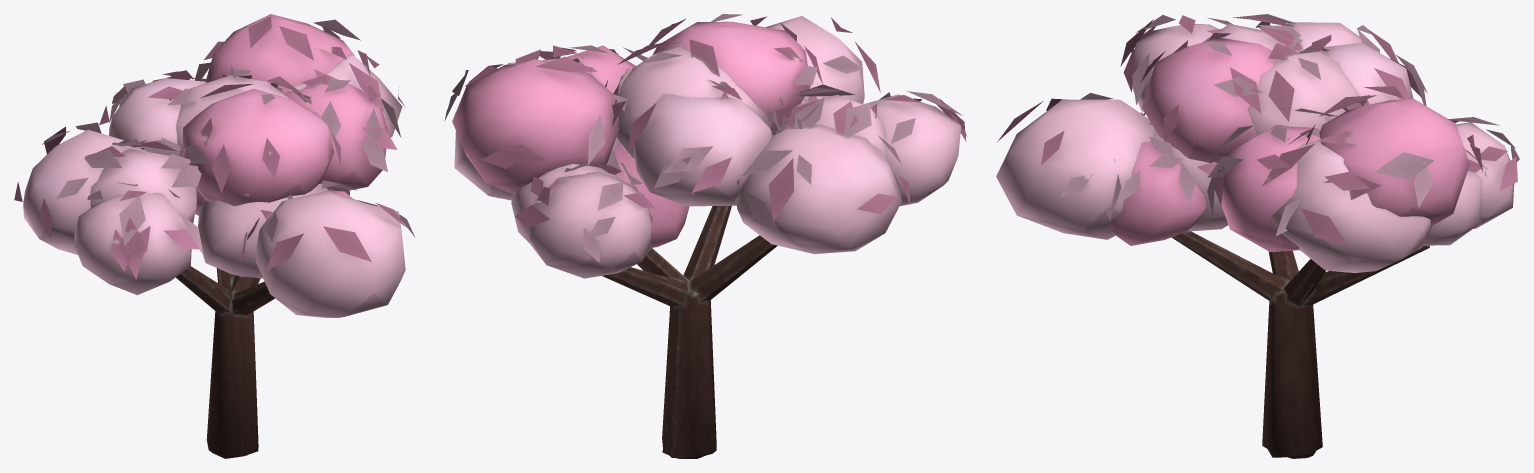
The model's file is cb_cherry_tree_b.glb.
3 renders of one model, left to right at view 1: azimuth 30°, elevation 25°; view 2: azimuth 150°, elevation 25°; view 3: azimuth 270°, elevation 25°, orthographic. The views are drawn at different scales.
Parts seen in each view (by area): view 1: cb_cherry_tree_b; view 2: cb_cherry_tree_b; view 3: cb_cherry_tree_b.
Part boxes in pixels (x1=…): cb_cherry_tree_b: x1=14, y1=14, x2=415, y2=458; cb_cherry_tree_b: x1=444, y1=14, x2=966, y2=458; cb_cherry_tree_b: x1=996, y1=14, x2=1519, y2=458.
Bounding box in the file's own units: 6.66 × 6.15 × 7.18.
3 materials, 3 textured.
